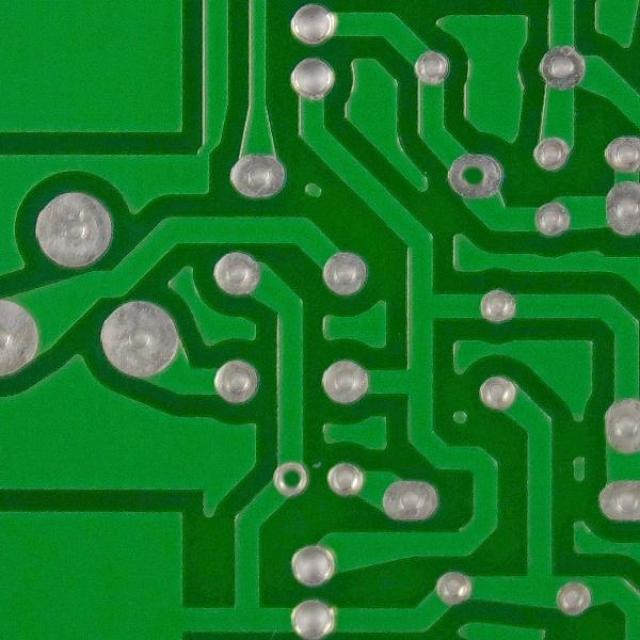missing_hole: (441, 146, 510, 203), (266, 460, 314, 500)
